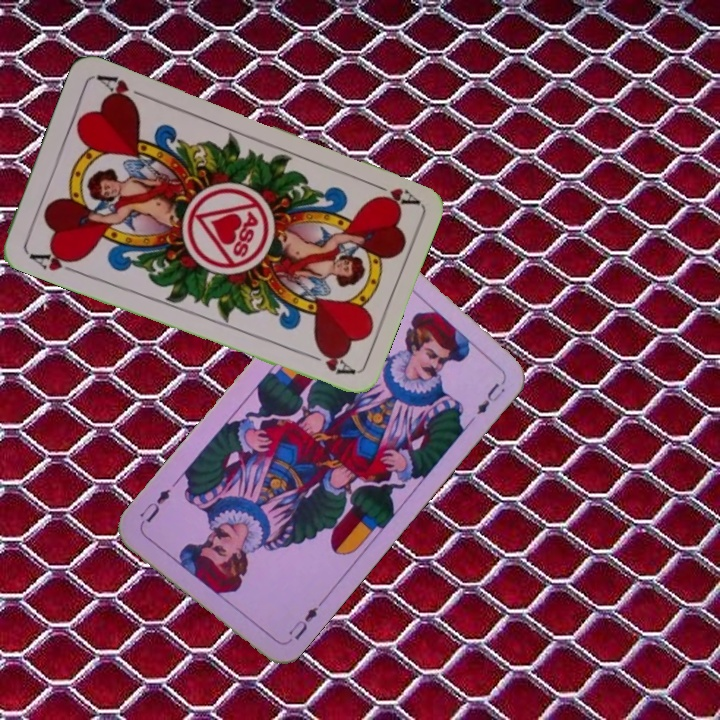EU: (280, 599, 325, 647)
HA: (363, 177, 420, 211), (25, 245, 84, 276)
